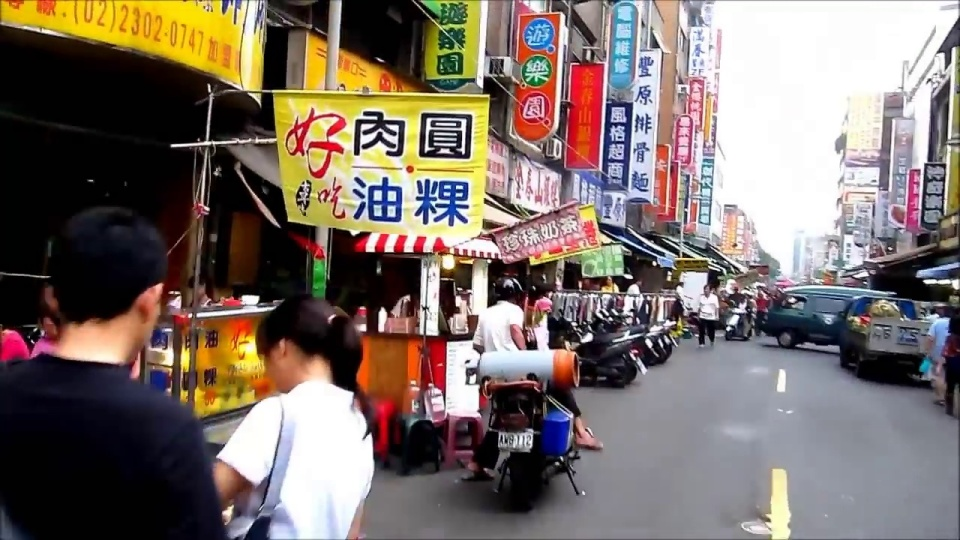person_head: (50, 208, 164, 333), (252, 300, 354, 390), (489, 274, 528, 308), (934, 305, 948, 322), (699, 283, 714, 296), (947, 315, 960, 330), (631, 274, 644, 285), (605, 273, 618, 283)
person_vbox: (0, 198, 230, 540), (211, 290, 380, 540), (458, 270, 603, 492), (925, 293, 951, 402), (690, 274, 723, 351), (939, 305, 960, 420), (591, 260, 627, 297), (620, 263, 653, 299)
